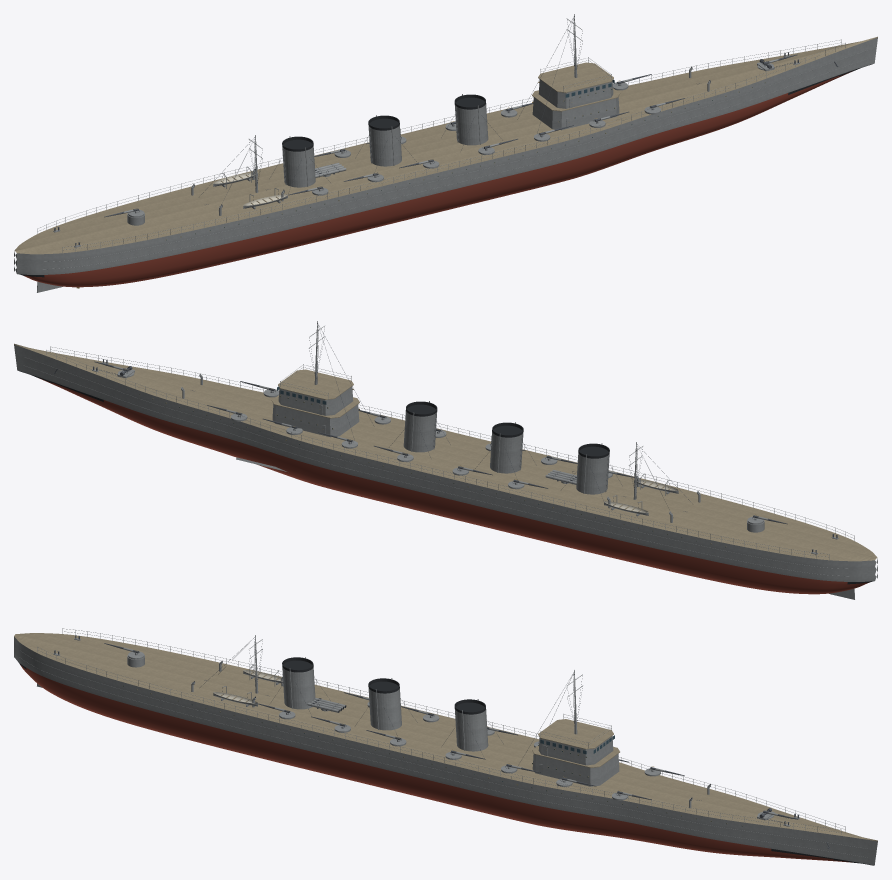
File: svetlana_1913.glb
3 renders of one model, top to bottom at view 1: azimuth 30°, elevation 25°; view 2: azimuth 150°, elevation 25°; view 3: azimuth 330°, elevation 25°, orthographic.
Parts seen in each view (by area): view 1: Svetlana class; view 2: Svetlana class; view 3: Svetlana class.
Boxes of the visible parts, box(x1,y1,x2,y2) form: Svetlana class: box(14, 14, 877, 292); Svetlana class: box(14, 321, 877, 599); Svetlana class: box(14, 628, 877, 865).
Size of the model in its own units: 158 by 26.27 by 15.49.
8 materials, 2 textured.
